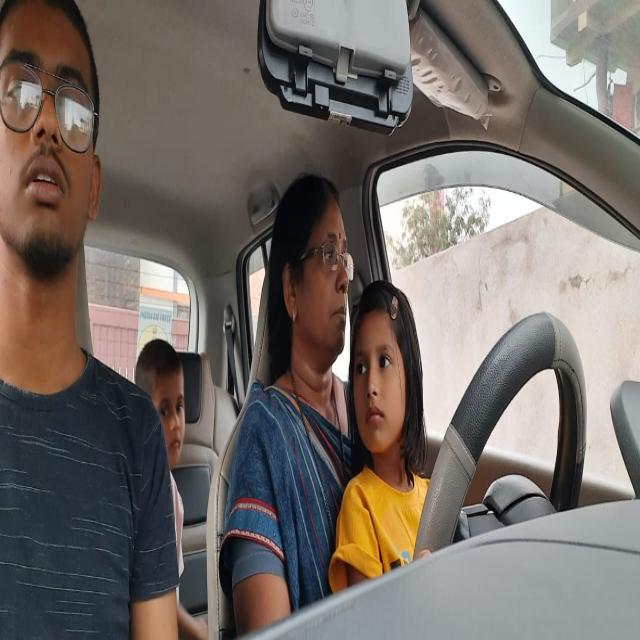child: (349, 285, 422, 459)
person: (0, 0, 109, 284), (269, 167, 353, 373), (134, 338, 188, 471)
